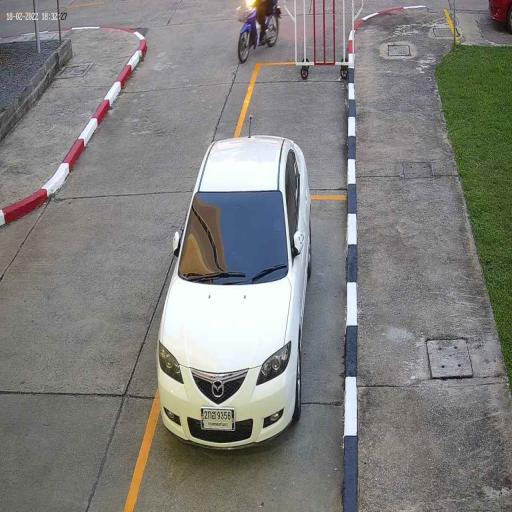car: (156, 134, 312, 450)
motorcycle: (234, 0, 282, 65)
